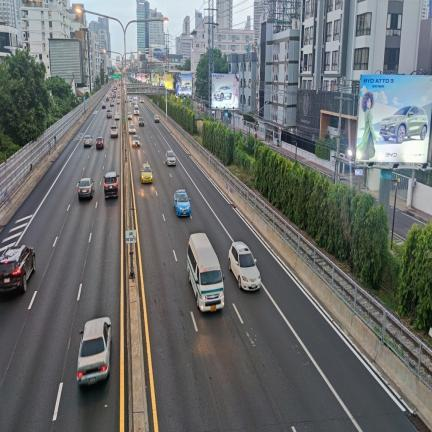car: (77, 317, 111, 384), (380, 106, 428, 143), (0, 245, 35, 293), (228, 241, 260, 290), (78, 178, 94, 199), (213, 86, 232, 100), (166, 150, 176, 165), (153, 48, 165, 56), (181, 82, 191, 91)
human: (356, 91, 378, 160), (231, 74, 238, 108)
taxi: (174, 190, 190, 215), (140, 163, 152, 182)
van: (187, 233, 224, 311), (104, 171, 119, 197)
